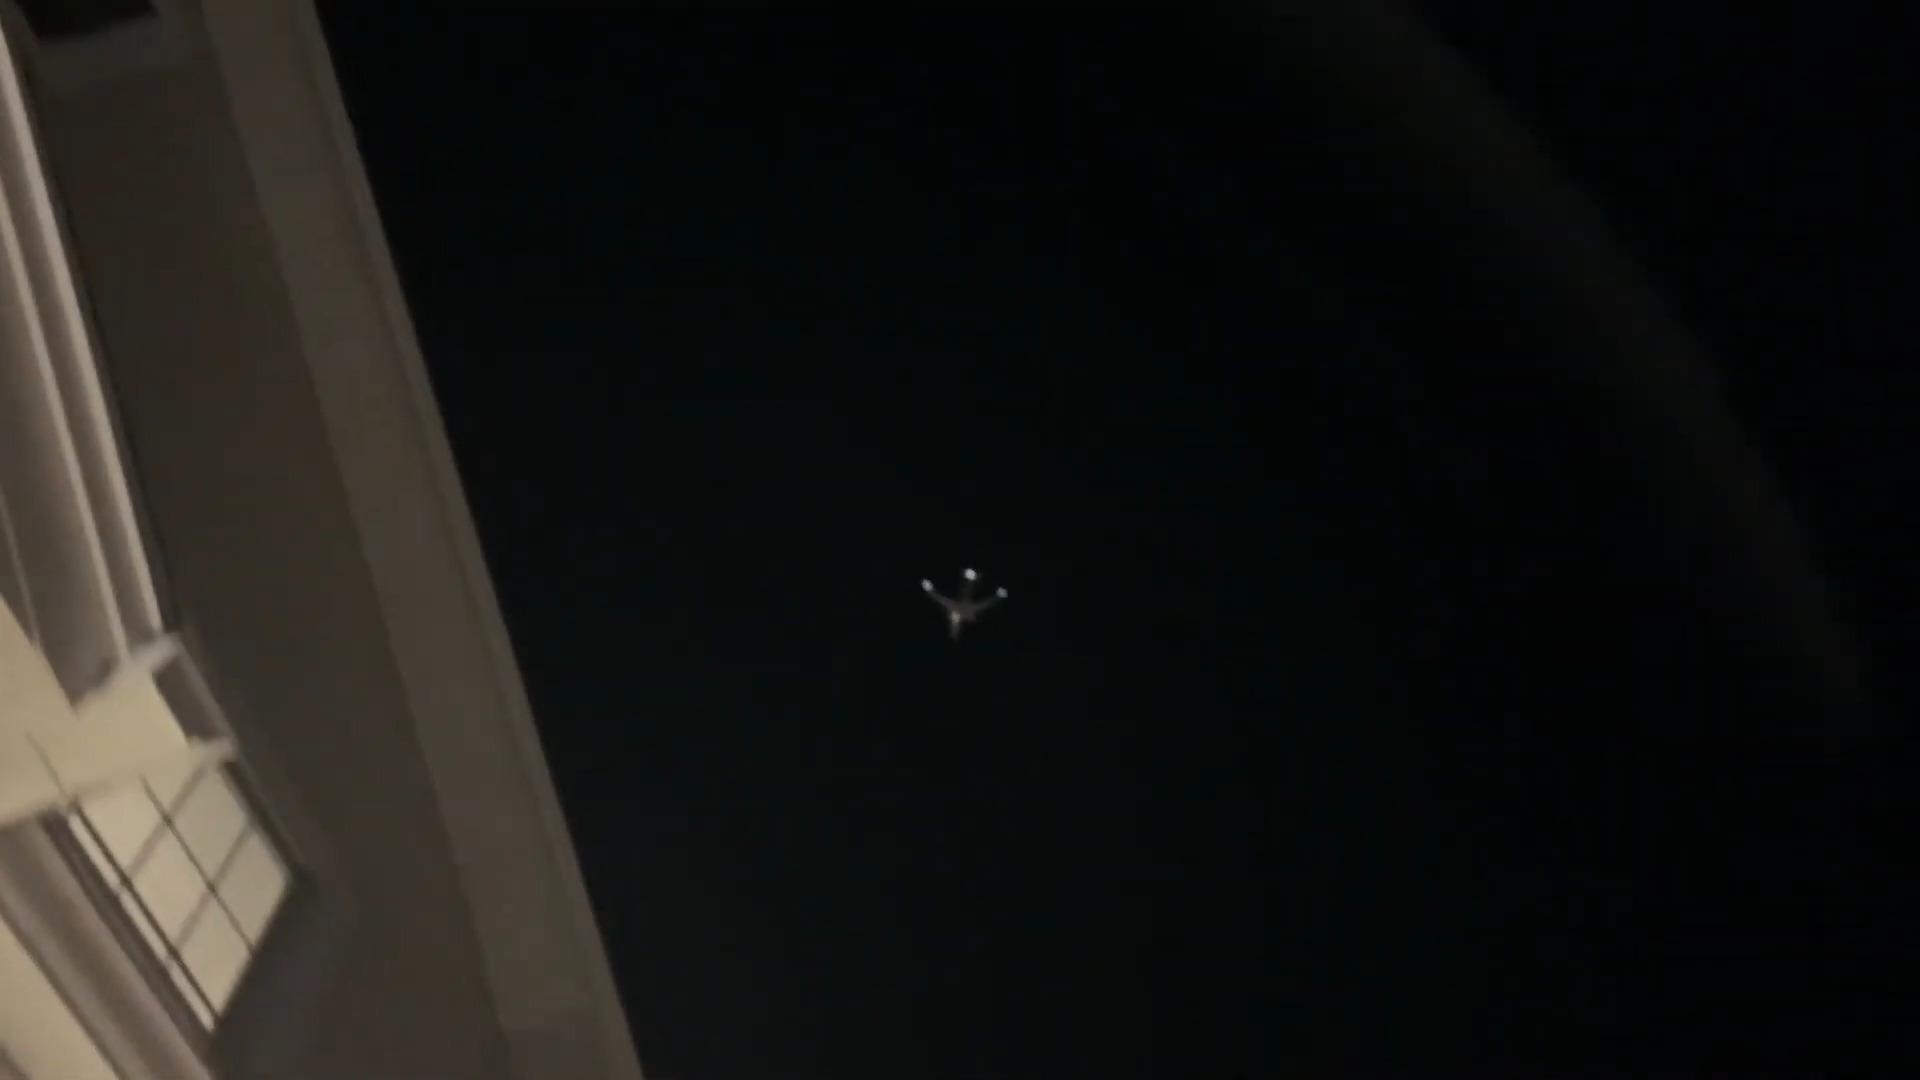Plane: (873, 553, 1051, 653)
